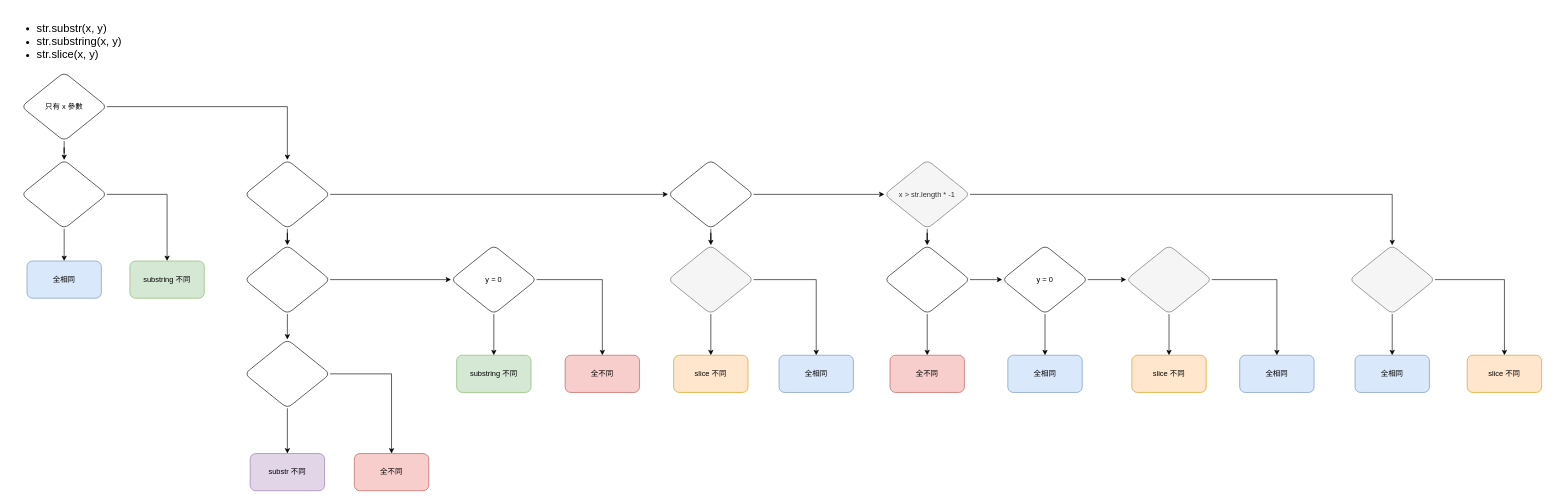
Some shapes in this 1552 by 502 pixel diagram are drawn without their labels. The shapes that lost their labels are listed below. From the top down, each one's centre as x and y in pixels, then its label:
At pixel 64 194: "x >= 0".
At pixel 287 194: "x > 0".
At pixel 710 194: "x = 0".
At pixel 287 279: "y > 0".
At pixel 710 279: "0 > y >= str.length * -1".
At pixel 927 279: "y >= 0".
At pixel 1169 279: "y > (str.length - 1) * -1".
At pixel 1392 279: "0 > y > str.length * -1".
At pixel 287 373: "y >= x".
